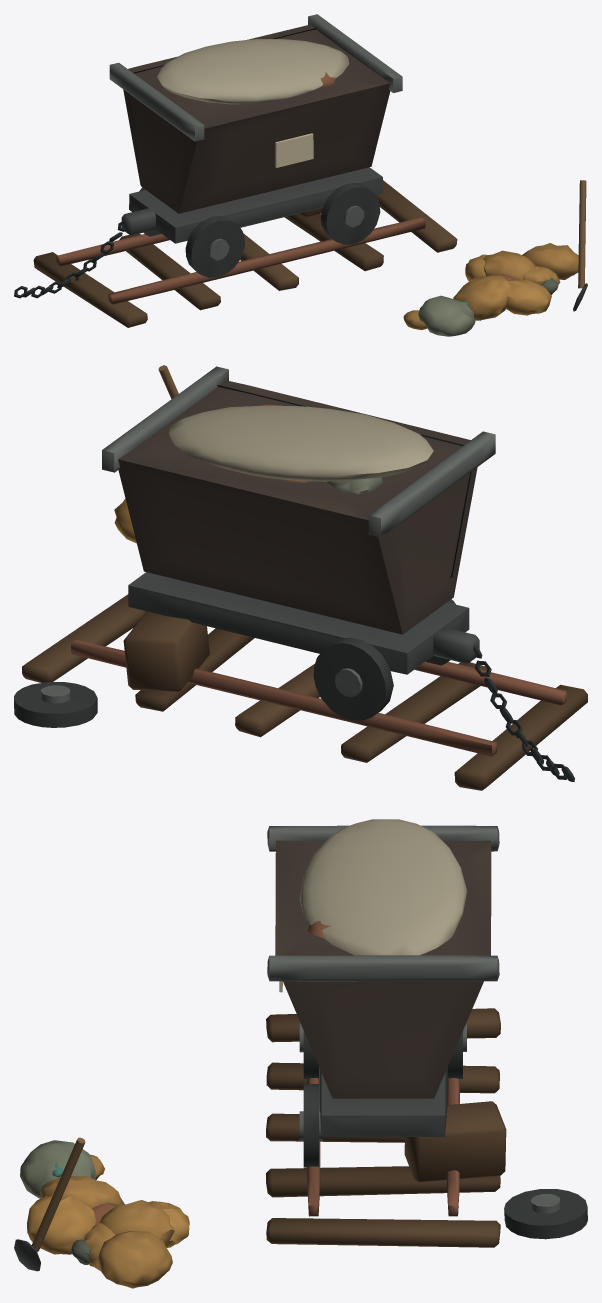
Rendered from ore_car_b_lod1.glb.
3 renders of one model, top to bottom at view 1: azimuth 30°, elevation 25°; view 2: azimuth 150°, elevation 25°; view 3: azimuth 270°, elevation 25°, orthographic. The views are drawn at different scales.
Parts seen in each view (by area): view 1: Surface.001; view 2: Surface.001; view 3: Surface.001.
Boxes of the visible parts, x1,y1,x2,y2 form: Surface.001: [14, 14, 587, 336]; Surface.001: [14, 365, 587, 790]; Surface.001: [14, 819, 587, 1288].
Size of the model in its own units: 6.03 by 2.66 by 4.94.
